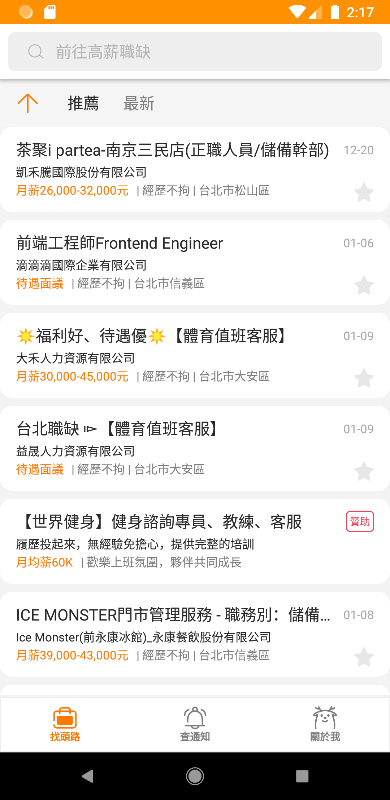button: (5, 27, 384, 74), (298, 700, 351, 745), (174, 701, 221, 746), (41, 703, 87, 746), (343, 501, 383, 545), (343, 640, 382, 673), (348, 174, 382, 207), (346, 455, 382, 485), (11, 87, 44, 119), (344, 271, 380, 300), (346, 362, 378, 394)
